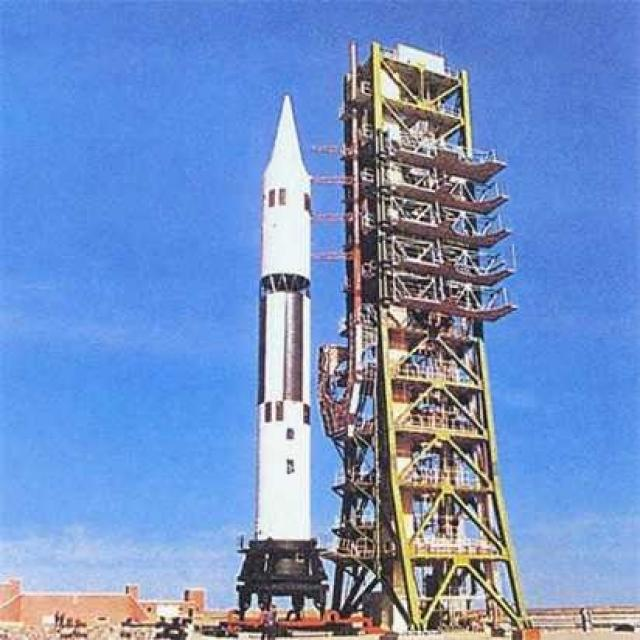missile: (252, 89, 324, 603)
